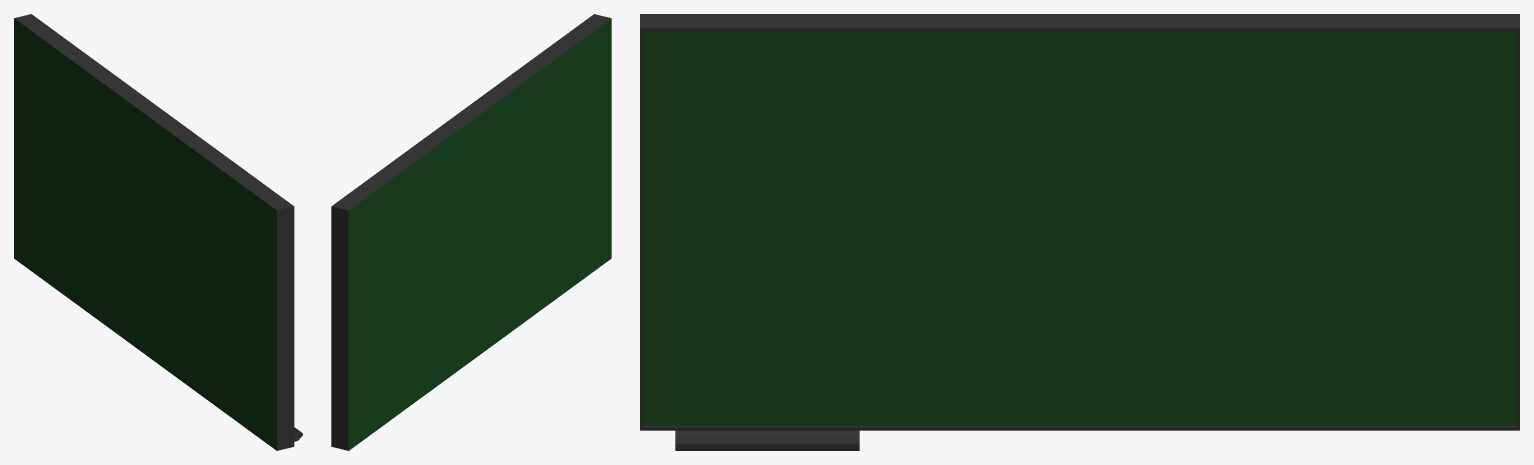
Rendered from band.fbx.
3 renders of one model, left to right at view 1: azimuth 30°, elevation 25°; view 2: azimuth 150°, elevation 25°; view 3: azimuth 270°, elevation 25°, orthographic. The views are drawn at different scales.
Parts seen in each view (by area): view 1: Cube; view 2: Cube; view 3: Cube.
Boxes of the visible parts, x1,y1,x2,y2 form: Cube: [14, 14, 302, 450]; Cube: [331, 14, 611, 450]; Cube: [640, 14, 1519, 450].
Bounding box in the file's own units: 48.34 × 312 × 604.
